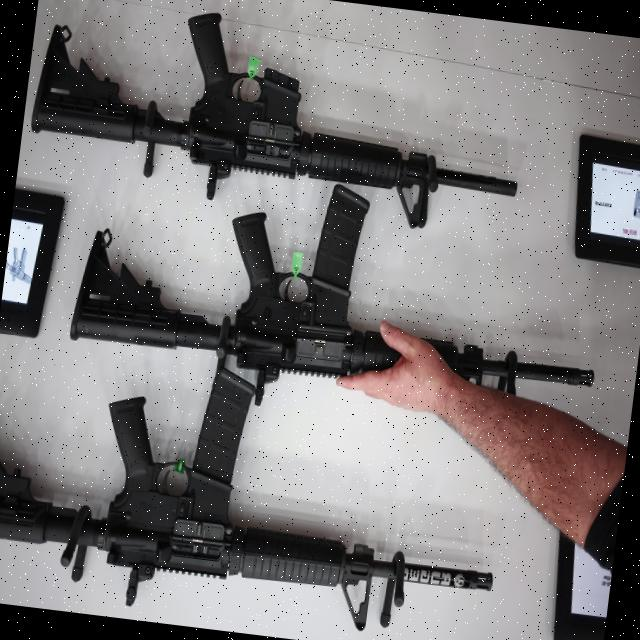Automaticrifle: (62, 152, 612, 444), (0, 339, 513, 640), (24, 0, 533, 235)
